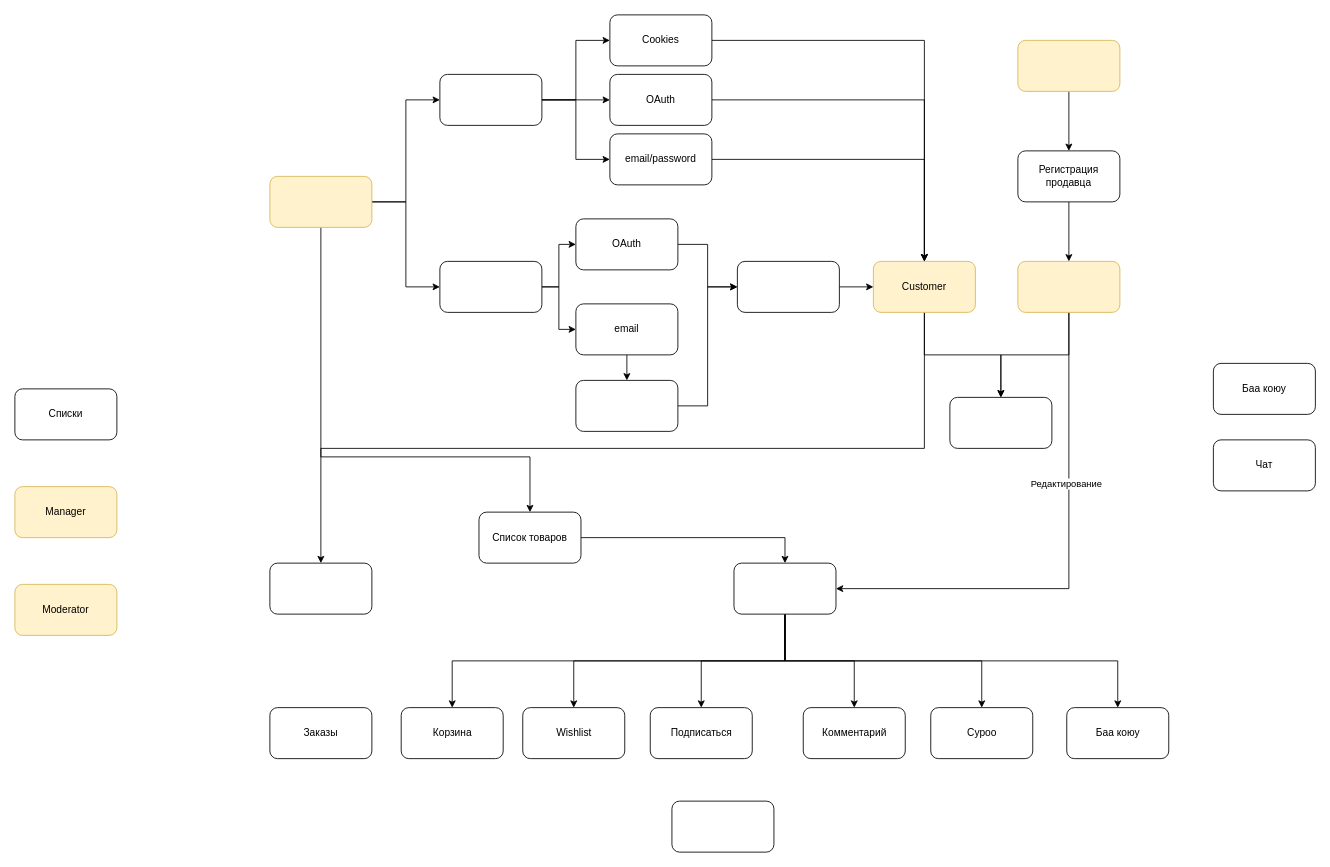
The diagram is 1330 pixels wide and 867 high, and some of its shapes have lost their labels. The centre of each missing label's shape, as x and y in pixels:
Admin: the point at 1068,65
Guest: the point at 320,201
Seller: the point at 1068,286
Аутентификация: the point at 490,99
Верификация: the point at 626,405
Поиск: the point at 320,588
Регистрация: the point at 490,286
Редактирование профиля: the point at 1000,422
Создание аккаунта: the point at 788,286
Страница товара: the point at 784,588
